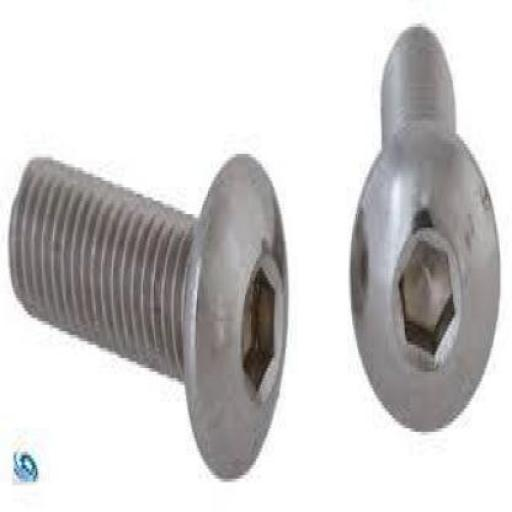Bolt: (8, 153, 291, 481), (350, 25, 502, 435)
